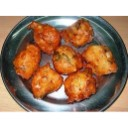bonda: (13, 43, 40, 76), (65, 72, 96, 99), (64, 19, 96, 44), (53, 48, 84, 70)
